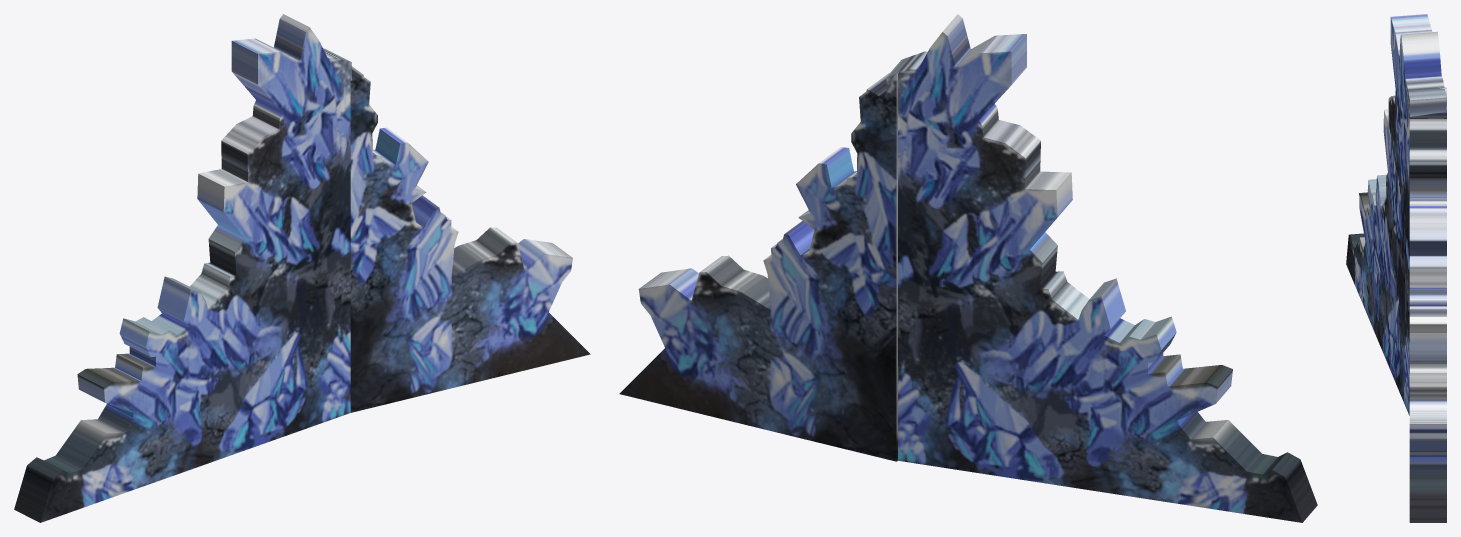
Rendered from SM_LevelCrystal_005.FBX.
The picture shows the model from 3 angles, left to right: view 1: azimuth 30°, elevation 25°; view 2: azimuth 150°, elevation 25°; view 3: azimuth 270°, elevation 25°; orthographic projection. The views are drawn at different scales.
Visible parts, largest first — view 1: SM_LevelCrystal_005; view 2: SM_LevelCrystal_005; view 3: SM_LevelCrystal_005.
Part boxes in pixels (bbox=[...]): SM_LevelCrystal_005: bbox=[14, 14, 590, 522]; SM_LevelCrystal_005: bbox=[619, 14, 1317, 522]; SM_LevelCrystal_005: bbox=[1346, 14, 1446, 522].
Size of the model in its own units: 3599 by 2326 by 586.
1 material, 1 textured.
